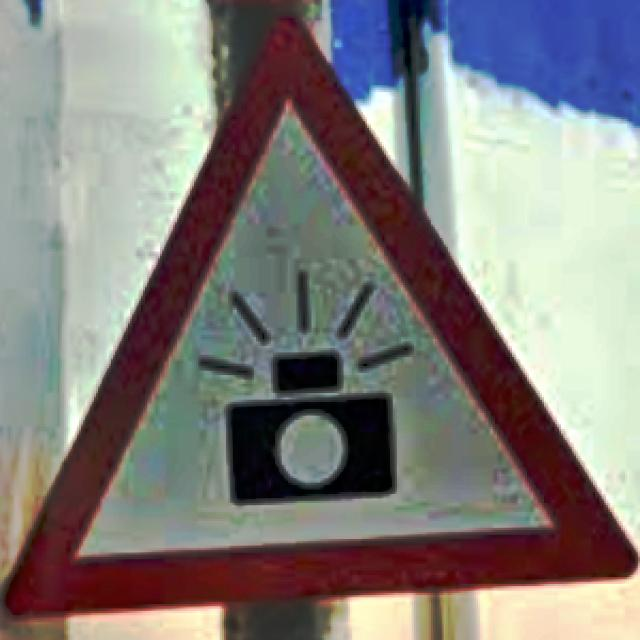speedcamera: (8, 16, 636, 615)
